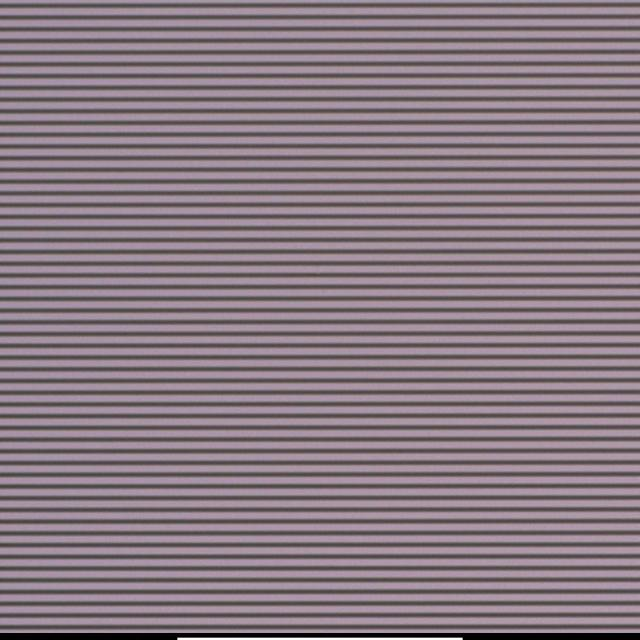03_intrusion: (318, 279, 328, 296)
